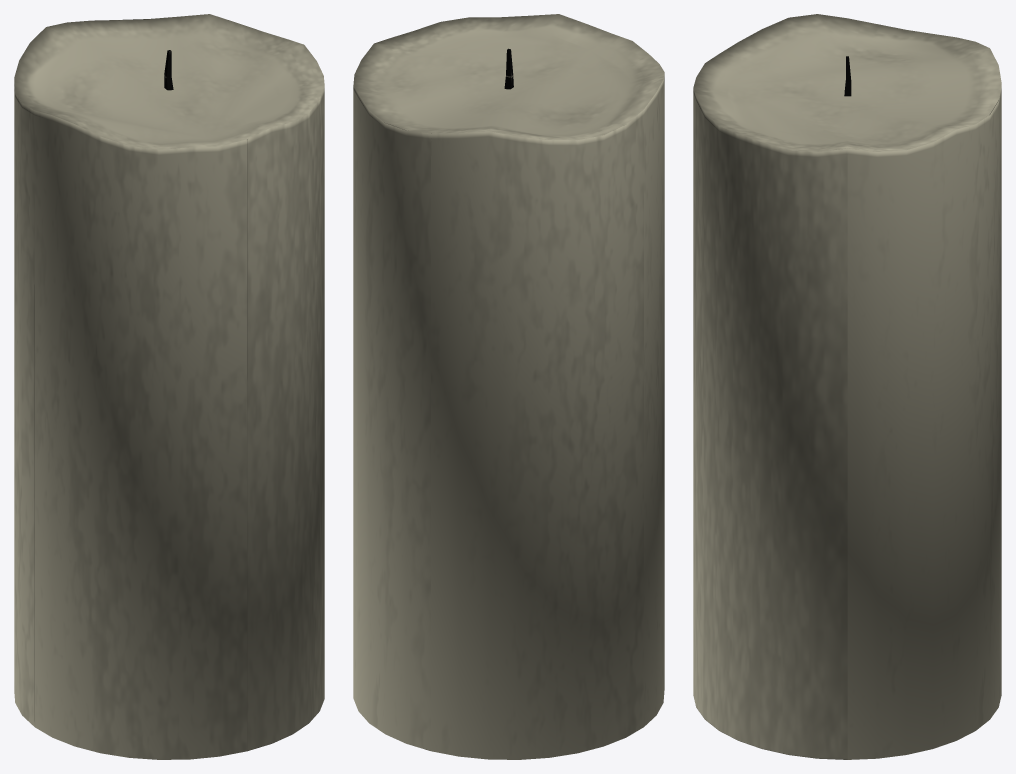
File: CANDLE.fbx
3 renders of one model, left to right at view 1: azimuth 30°, elevation 25°; view 2: azimuth 150°, elevation 25°; view 3: azimuth 270°, elevation 25°, orthographic.
Parts seen in each view (by area): view 1: CANDLE; view 2: CANDLE; view 3: CANDLE.
Boxes of the visible parts, box(x1,y1,x2,y2) form: CANDLE: box(14, 14, 324, 759); CANDLE: box(353, 14, 664, 759); CANDLE: box(693, 14, 1001, 759).
Size of the model in its own units: 0.1132 by 0.1132 by 0.2584.
